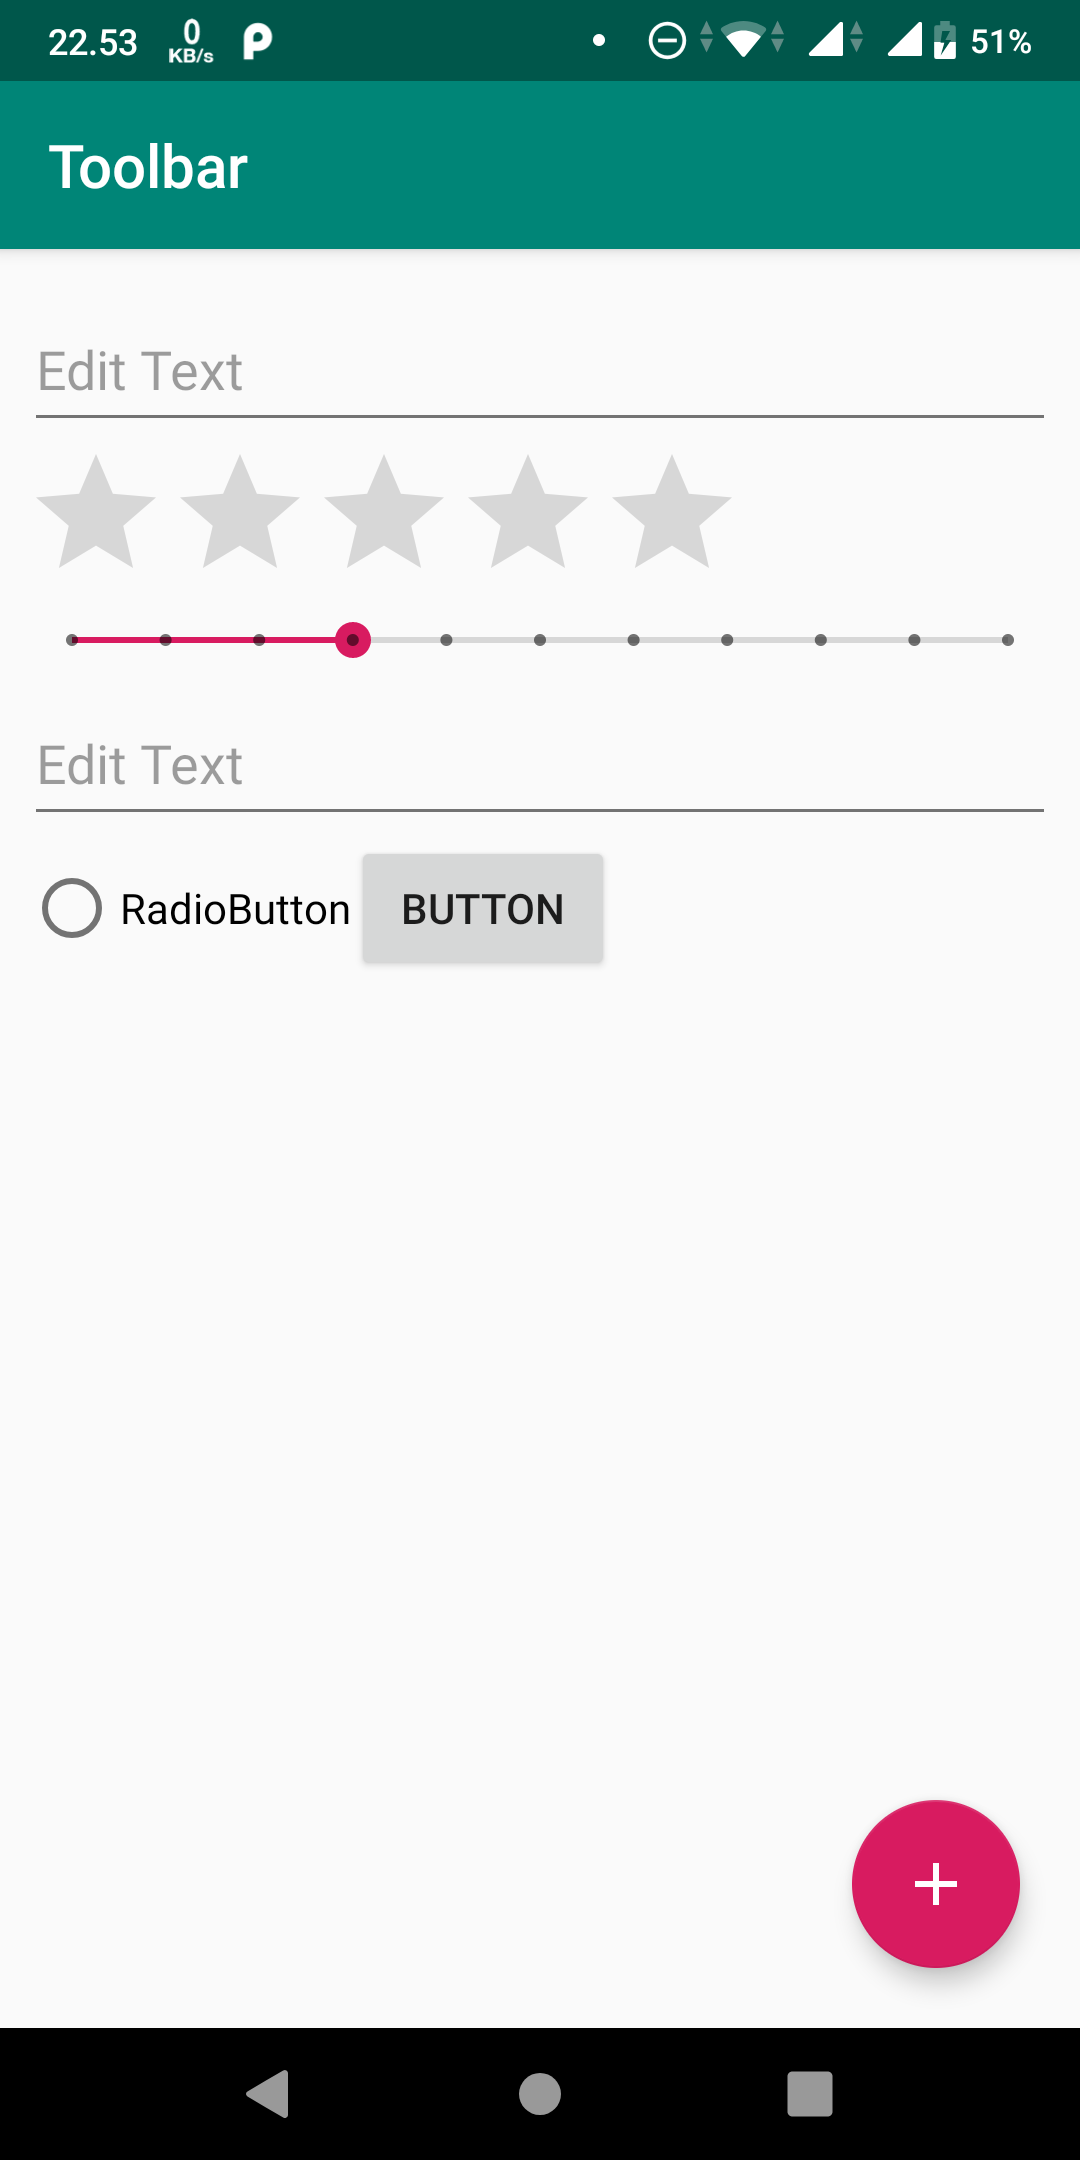button: (353, 849, 610, 973)
editText: (26, 725, 1052, 828), (17, 331, 1055, 428)
floatingButton: (843, 1794, 1026, 1973)
radioButton: (26, 861, 355, 944)
ratingBar: (23, 441, 733, 592)
slider: (62, 614, 1039, 661)
toolbar: (4, 80, 1080, 247)
